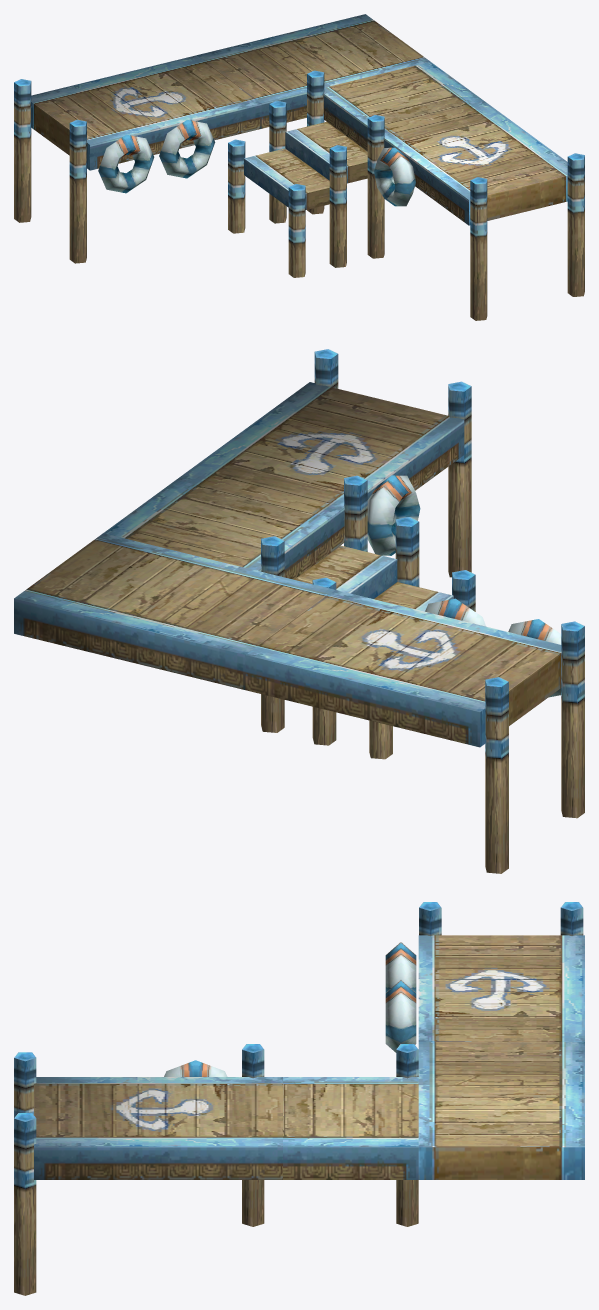
The picture shows the model from 3 angles, top to bottom: view 1: azimuth 30°, elevation 25°; view 2: azimuth 150°, elevation 25°; view 3: azimuth 270°, elevation 25°; orthographic projection. The views are drawn at different scales.
Visible parts, largest first — view 1: geom_node_1, geom_node_0, geom_node_2; view 2: geom_node_1, geom_node_2, geom_node_0; view 3: geom_node_1, geom_node_0, geom_node_2.
Boxes of the visible parts, x1,y1,x2,y2 form: geom_node_1: [14, 41, 384, 277]; geom_node_0: [374, 101, 584, 320]; geom_node_2: [253, 14, 483, 151]; geom_node_1: [167, 475, 584, 873]; geom_node_2: [14, 480, 330, 670]; geom_node_0: [176, 349, 471, 577]; geom_node_1: [242, 902, 584, 1226]; geom_node_0: [14, 1052, 282, 1295]; geom_node_2: [283, 1077, 584, 1179].
Bounding box in the file's own units: 10.17 × 3.75 × 11.15.
3 materials, 3 textured.
